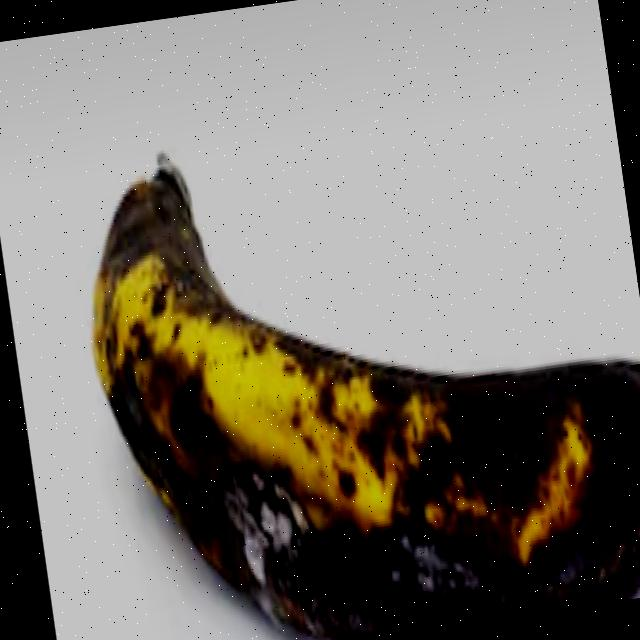Rotten: (55, 75, 640, 640)
